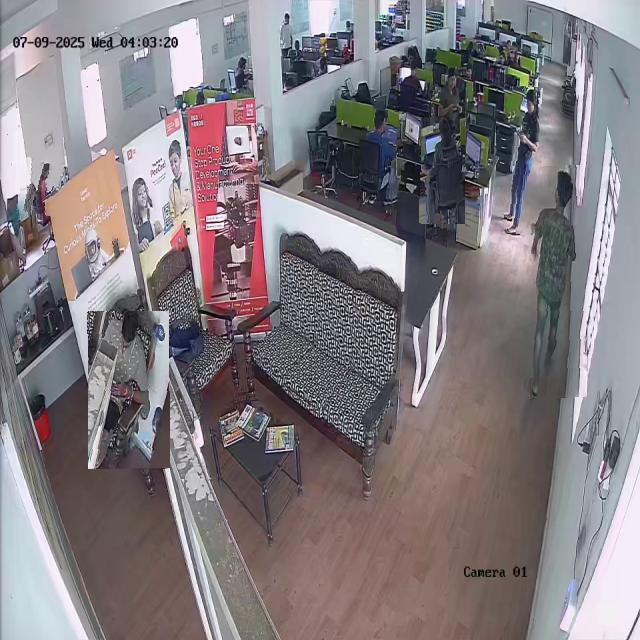person: (519, 166, 586, 399), (88, 311, 169, 470), (504, 87, 540, 235), (420, 118, 466, 224), (358, 109, 397, 212), (19, 158, 62, 216)
